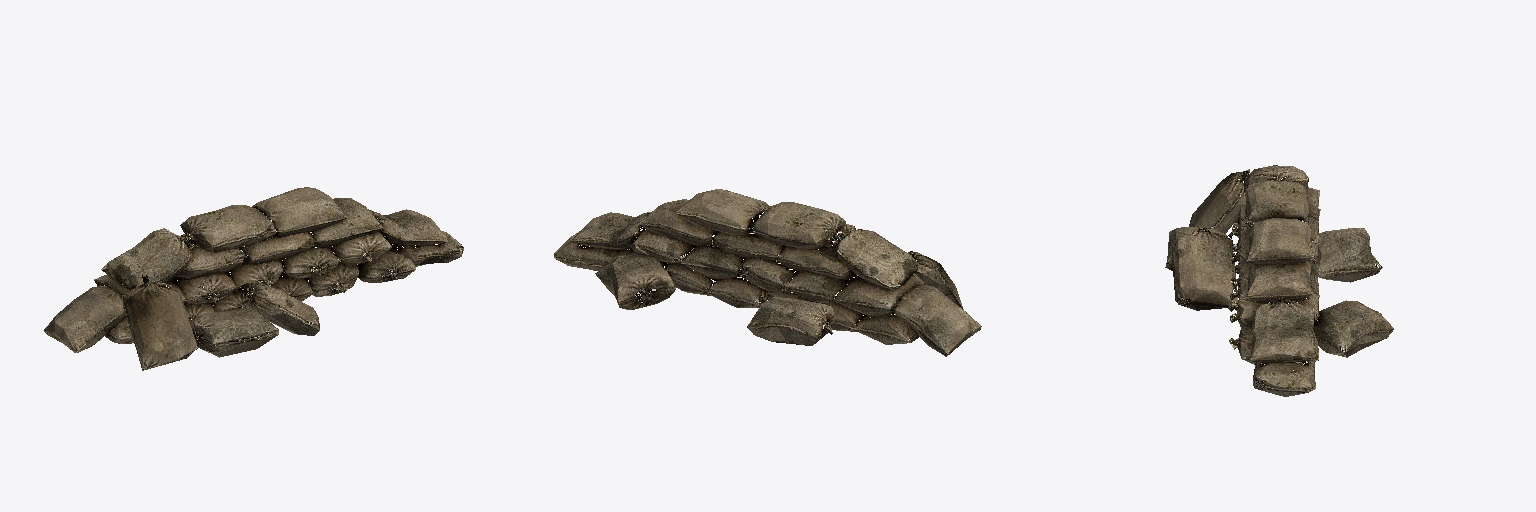
3 views of the same model, side by side, from view 1: azimuth 30°, elevation 25°; view 2: azimuth 150°, elevation 25°; view 3: azimuth 270°, elevation 25° (orthographic).
Visible parts, largest first — view 1: sandbags_02; view 2: sandbags_02; view 3: sandbags_02.
Part boxes in pixels (x1,y1,x2,y2): sandbags_02: (44, 187, 463, 370); sandbags_02: (554, 189, 981, 356); sandbags_02: (1165, 165, 1393, 396).
Size of the model in its own units: 8.66 by 2.07 by 4.3.
Materials: 1 (1 with a texture image).